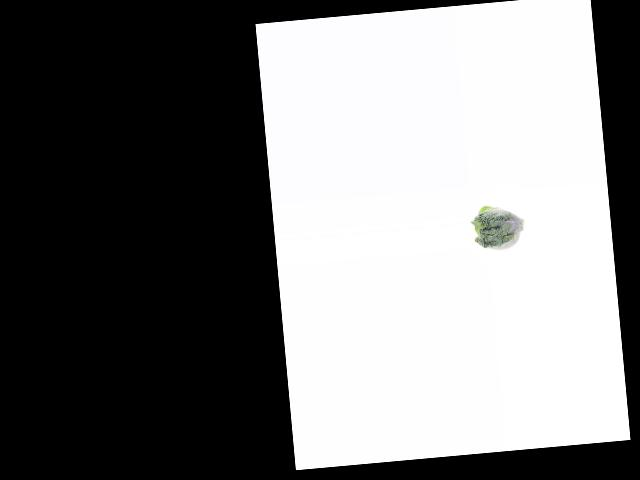lettuce: (470, 200, 526, 253)
